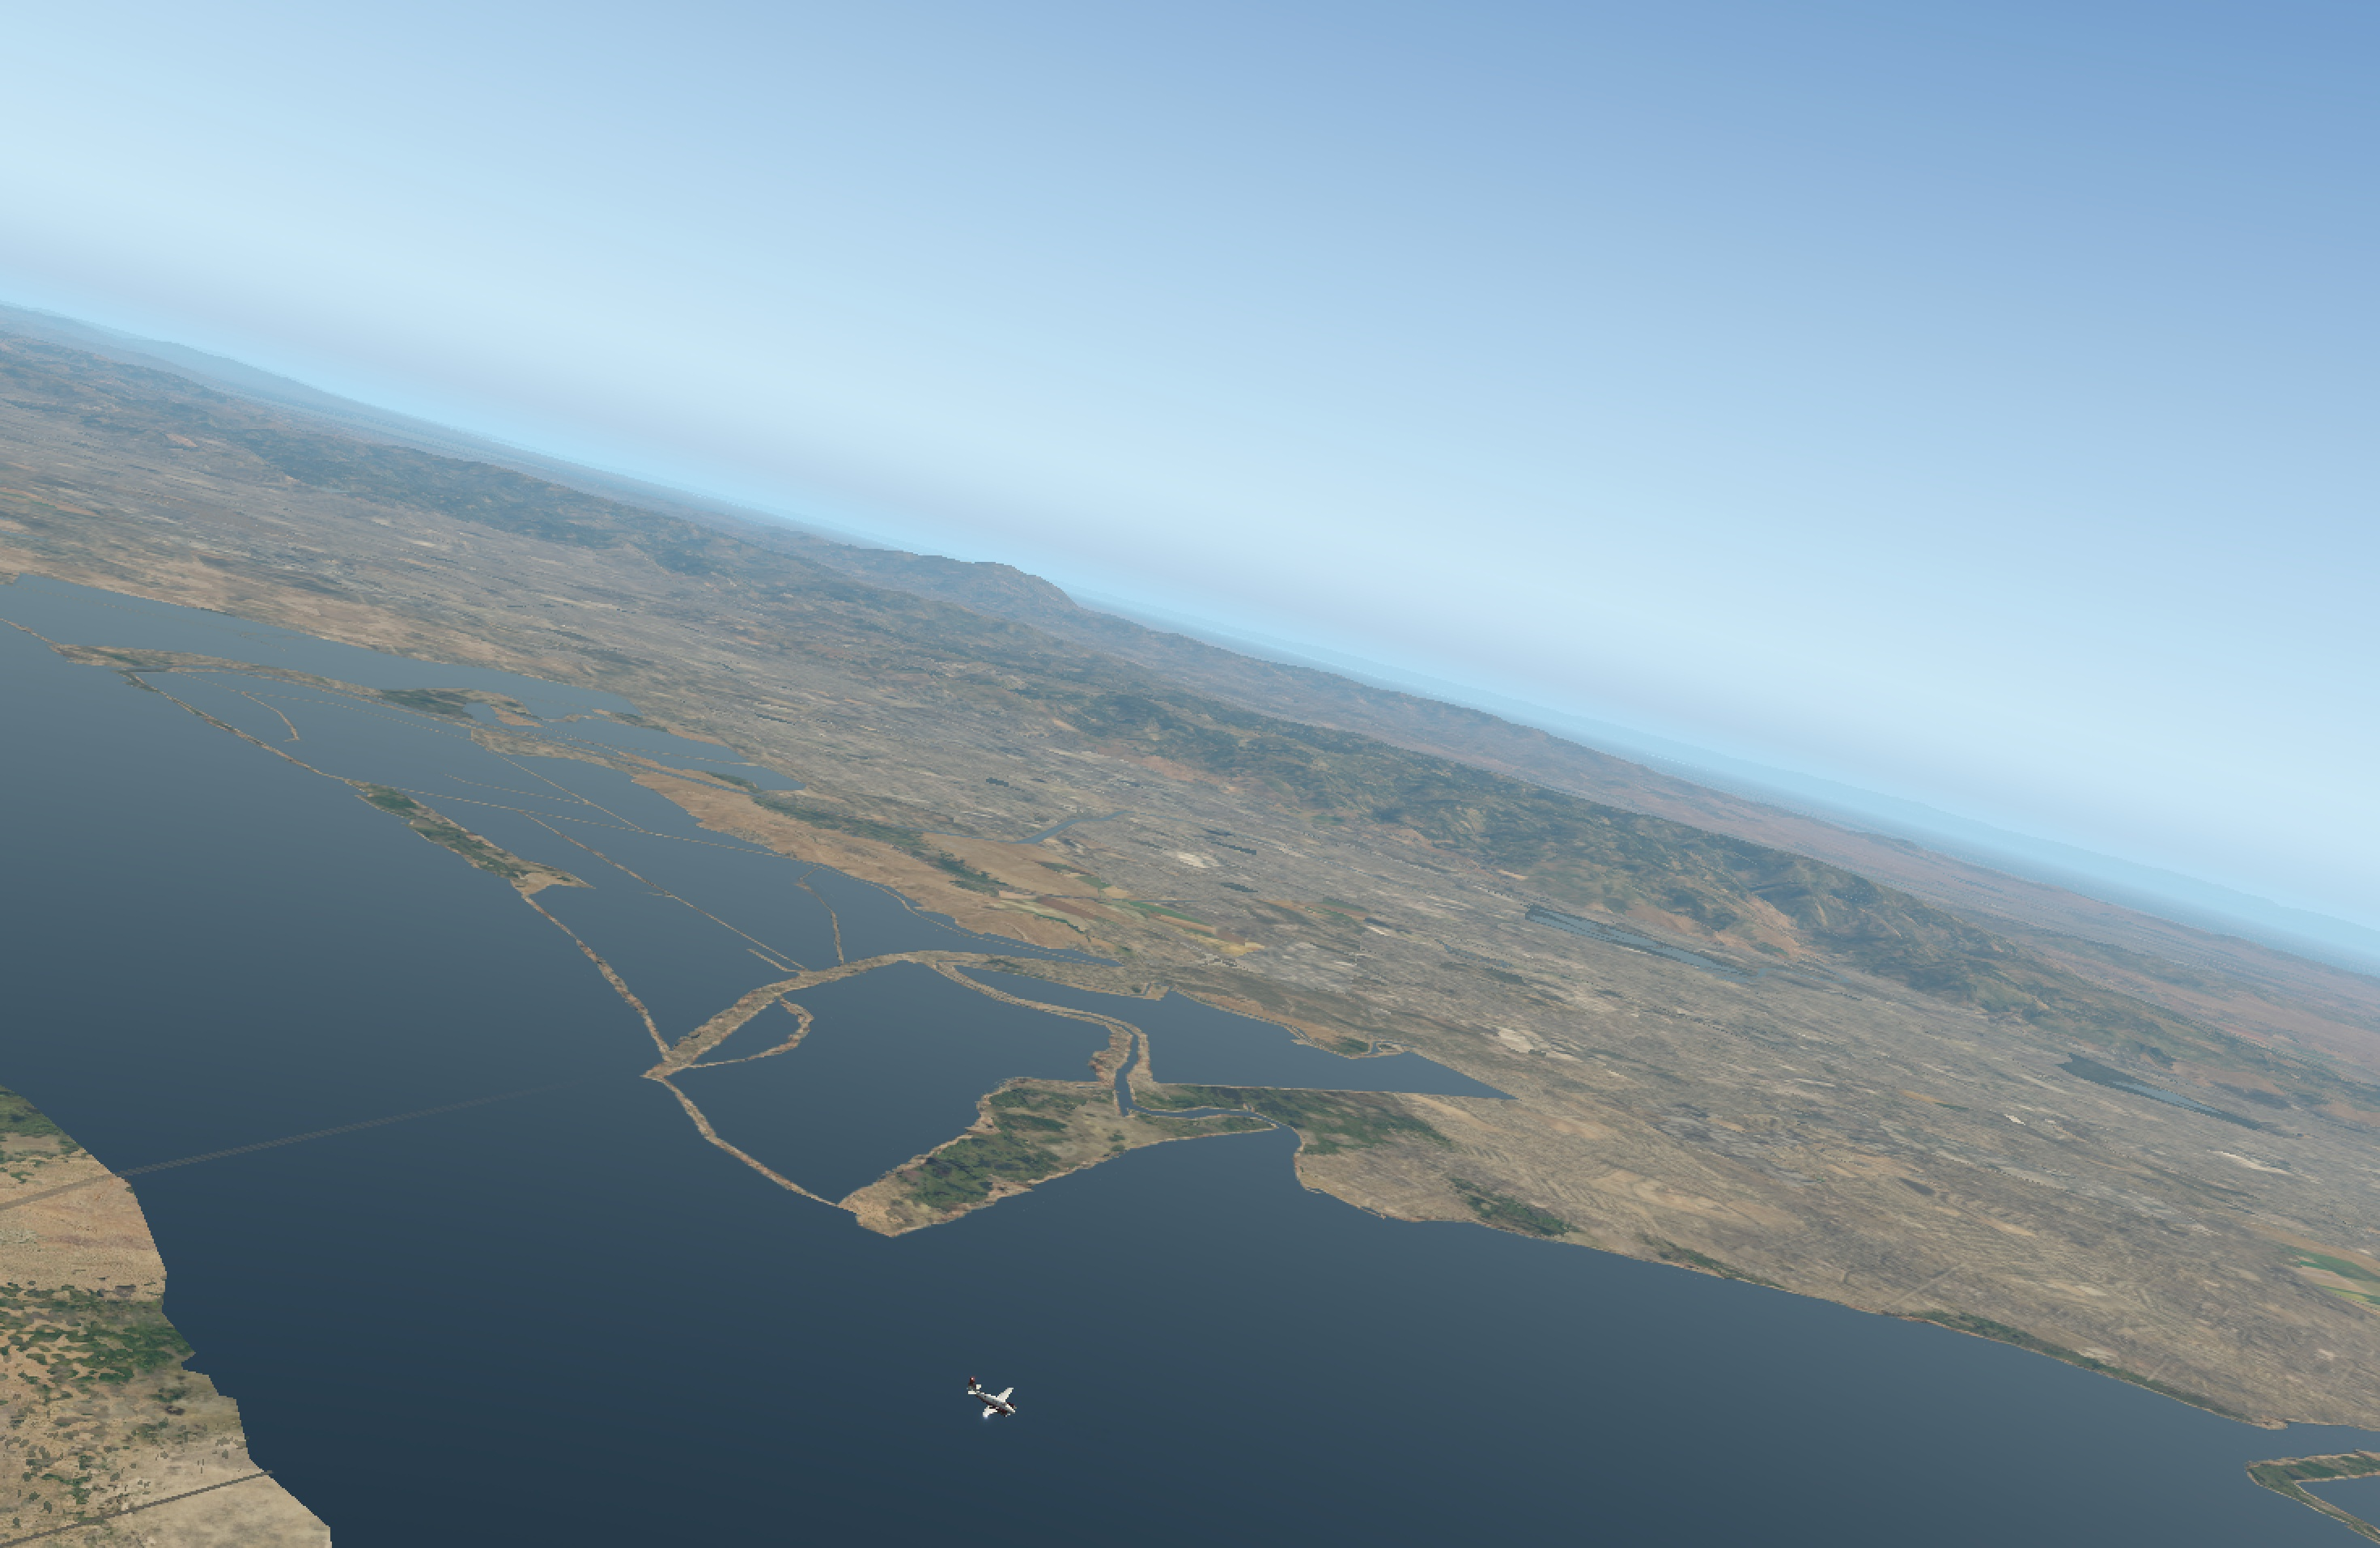aircraft: (959, 1394, 1037, 1421)
